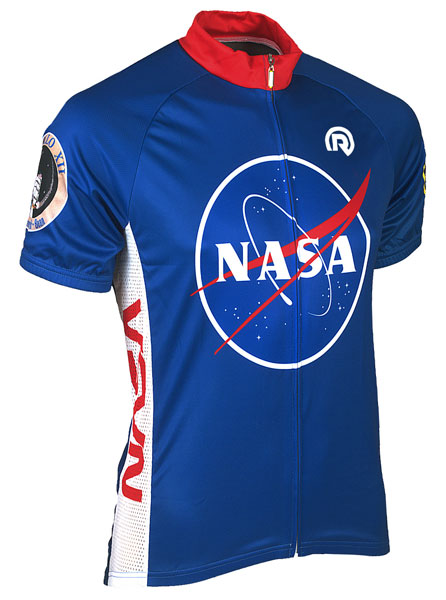NASA: (188, 146, 376, 369)
